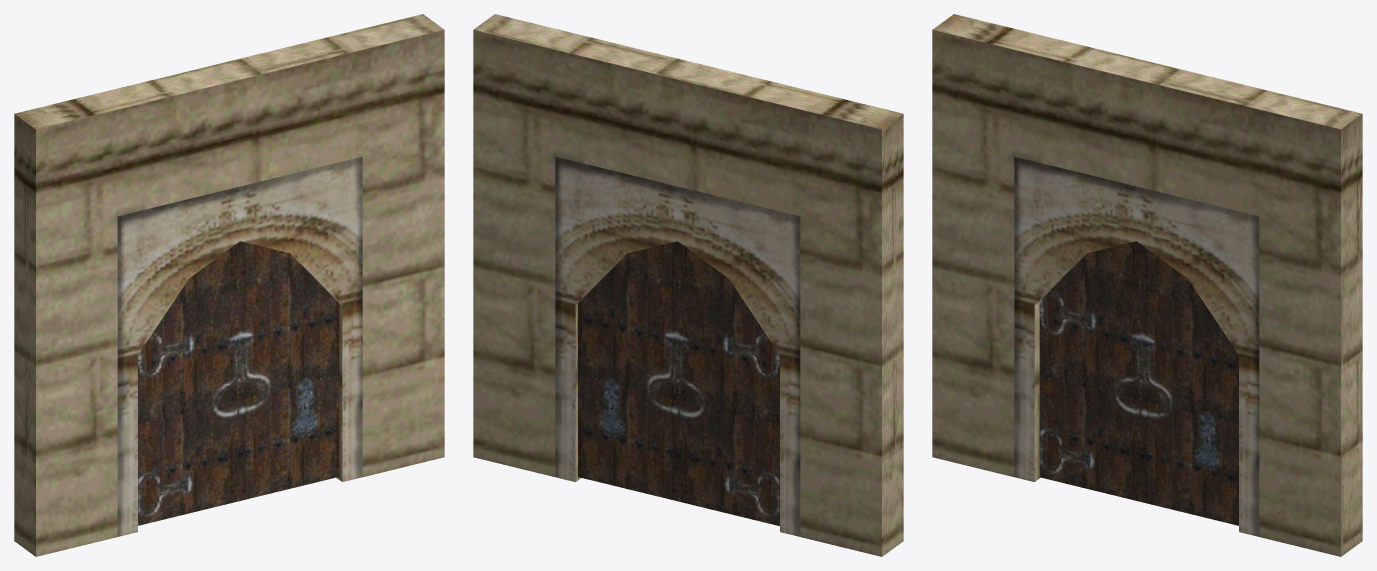
File: Door03.obj
3 views of the same model, side by side, from view 1: azimuth 30°, elevation 25°; view 2: azimuth 150°, elevation 25°; view 3: azimuth 330°, elevation 25° (orthographic).
Visible parts, largest first — view 1: WallDoor03_Cube.002, Door03_Cube.001; view 2: WallDoor03_Cube.002, Door03_Cube.001; view 3: WallDoor03_Cube.002, Door03_Cube.001.
Boxes of the visible parts, left/top/right/bottom form: WallDoor03_Cube.002: left=14, top=14, right=444, bottom=556; Door03_Cube.001: left=138, top=241, right=339, bottom=525; WallDoor03_Cube.002: left=473, top=14, right=903, bottom=556; Door03_Cube.001: left=578, top=241, right=779, bottom=526; WallDoor03_Cube.002: left=932, top=14, right=1362, bottom=556; Door03_Cube.001: left=1039, top=241, right=1238, bottom=525.
Bounding box in the file's own units: 4 × 4 × 0.3648.
